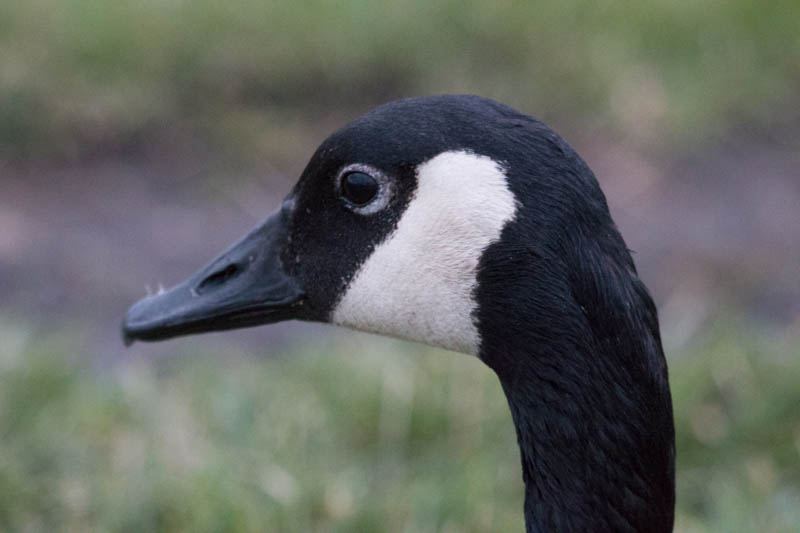goose-head: (120, 93, 659, 364)
